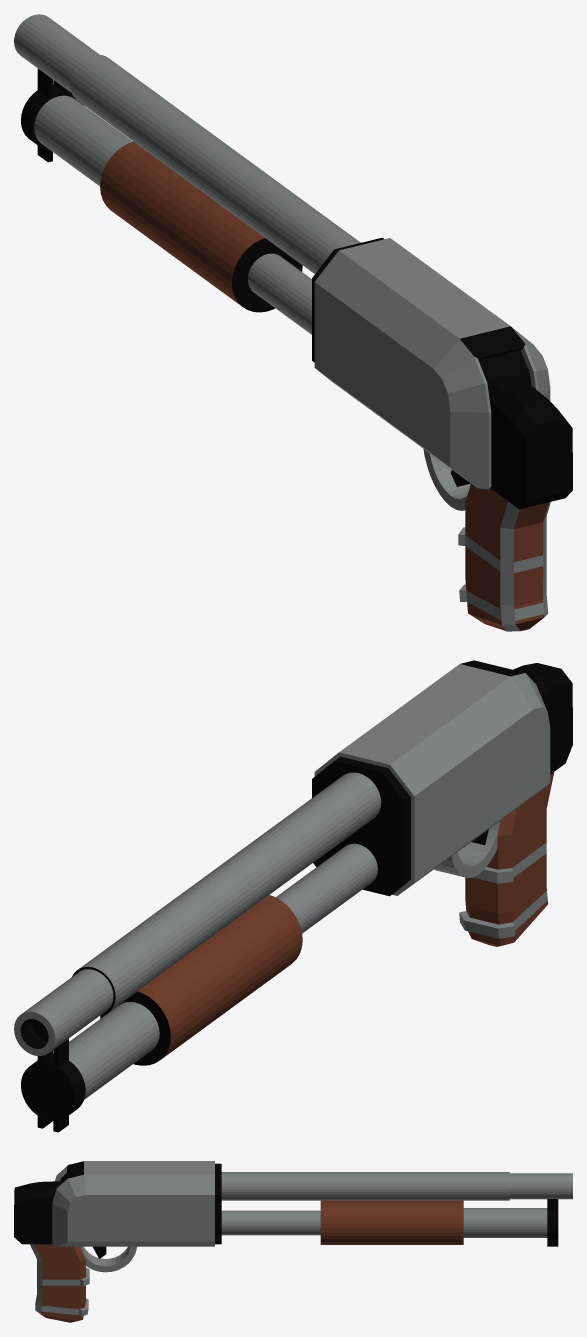
File: shootgun.fbx
The picture shows the model from 3 angles, top to bottom: view 1: azimuth 30°, elevation 25°; view 2: azimuth 150°, elevation 25°; view 3: azimuth 270°, elevation 25°; orthographic projection. The views are drawn at different scales.
Parts seen in each view (by area): view 1: Cube.002; view 2: Cube.002; view 3: Cube.002.
Part boxes in pixels (x1,y1,x2,y2): Cube.002: [14, 14, 572, 631]; Cube.002: [14, 660, 572, 1132]; Cube.002: [14, 1161, 572, 1322].
Bounding box in the file's own units: 1786 × 538 × 200.
